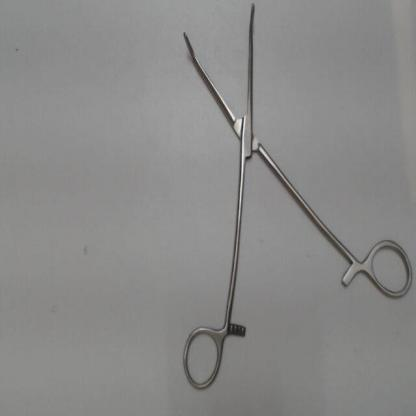Lahey Forceps: (176, 0, 414, 395)
